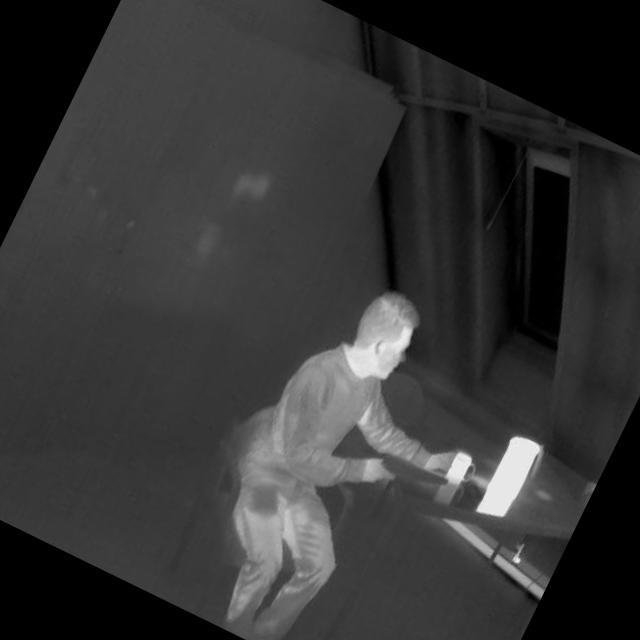person: (151, 247, 527, 640)
